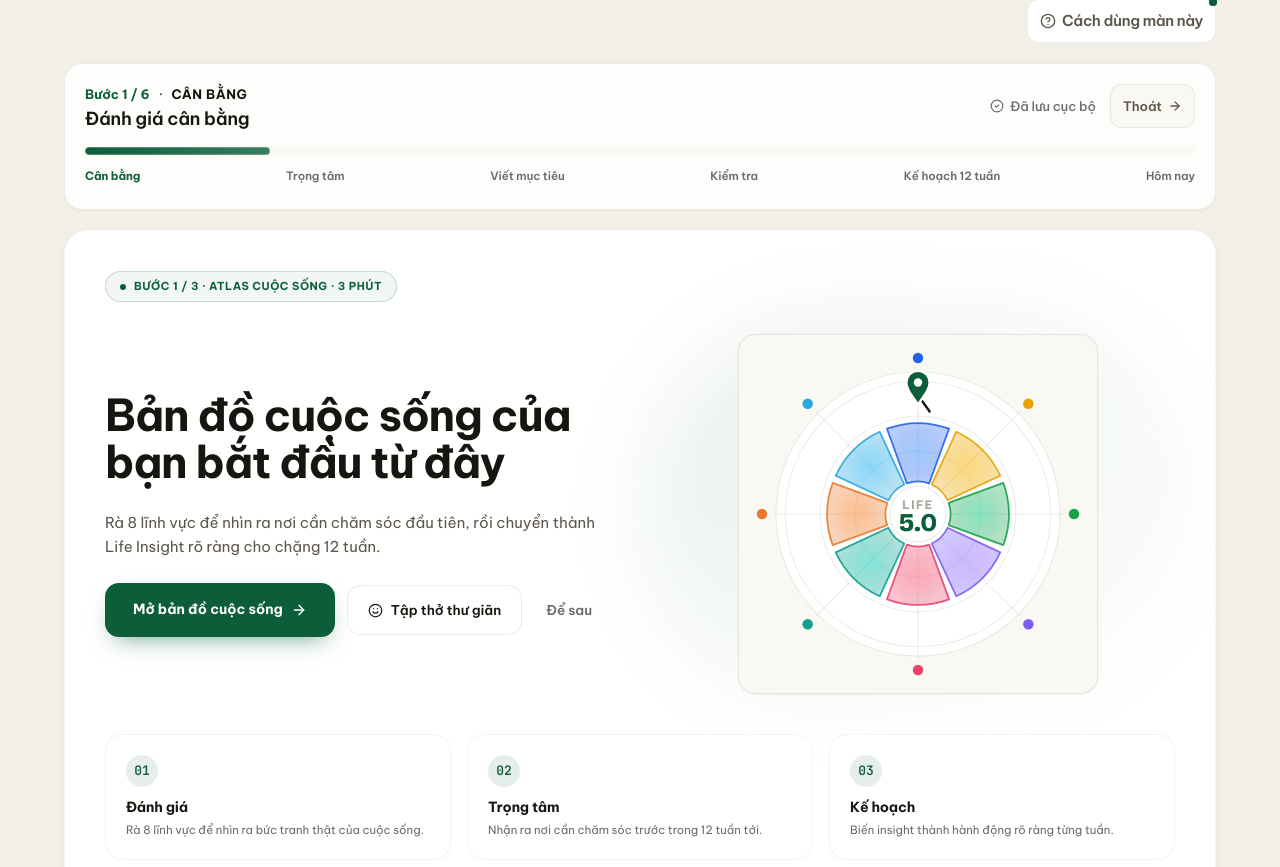
Test: Onboarding › allows skipping an individual area without changing its score
Step 1. Click the button "Mở bản đồ cuộc sống" → (220, 610), box [105,583,335,637]
(page scrolled)
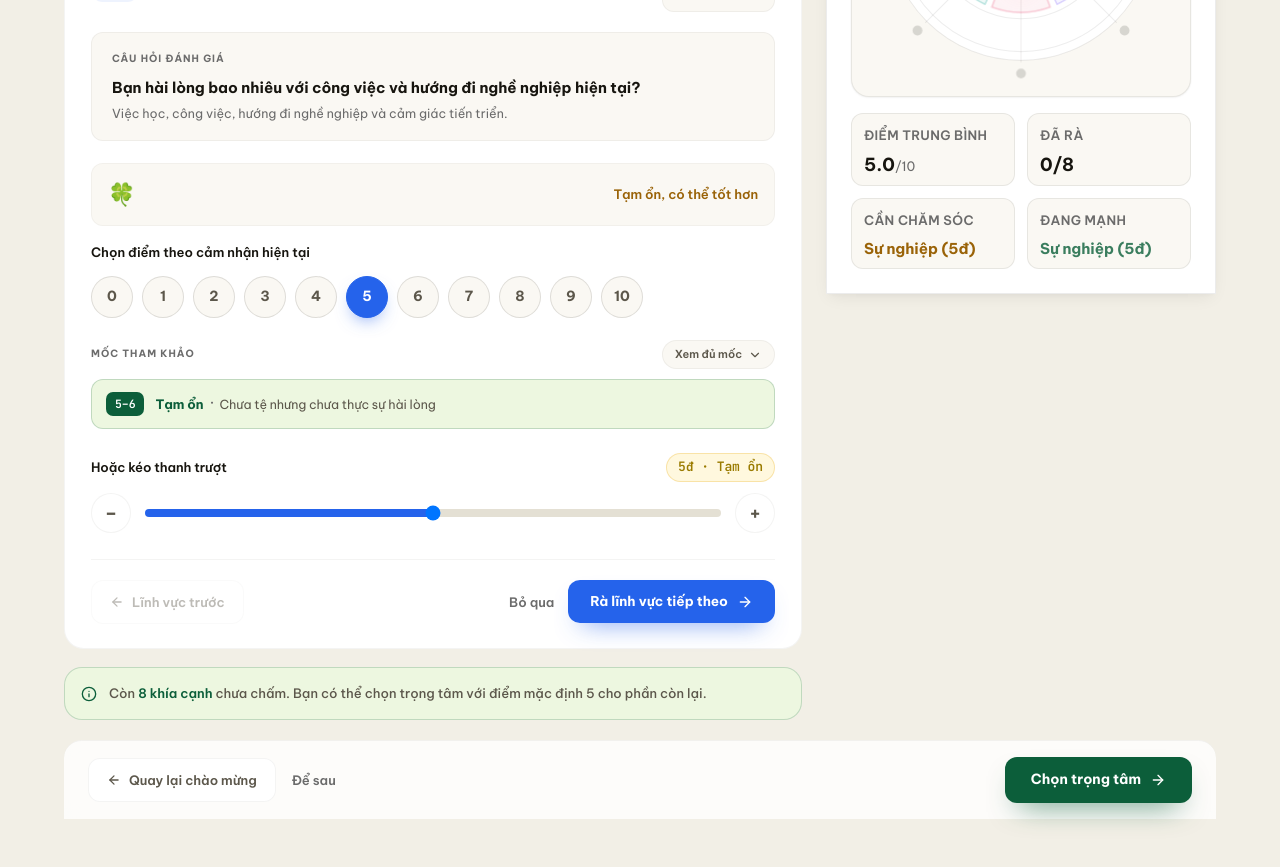
Expected: the message with test id "onboarding-assessment-summary" shows "0/8", [851,113,1191,269]
Step 2. Click the button "Bỏ qua" → (532, 602), box [509,593,554,611]
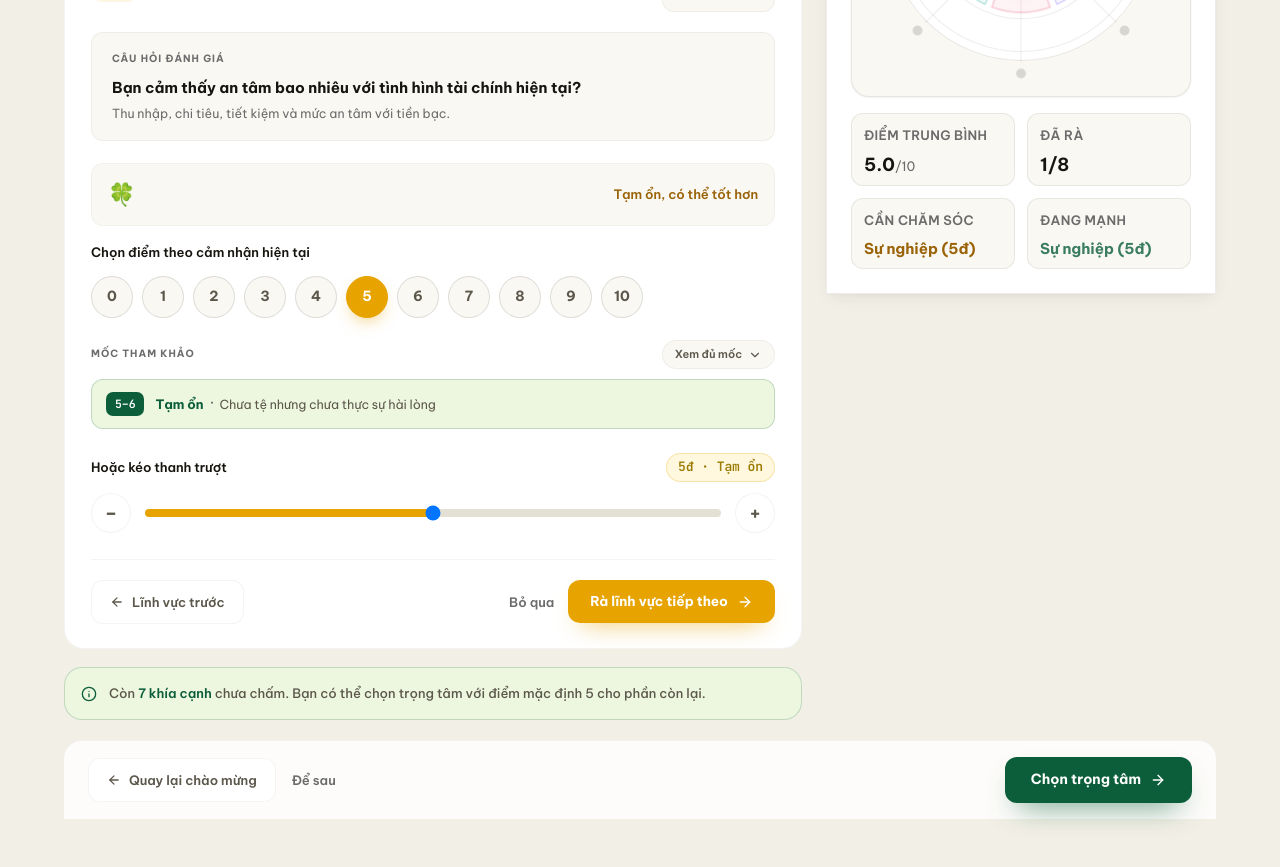
Expected: the text "Đã rà" is shown, [1040,127,1084,143]
Expected: the number of buttons "Bỏ qua" is 1, [509,593,554,611]
Expected: the message with test id "onboarding-assessment-summary" shows "1/8", [851,113,1191,269]
